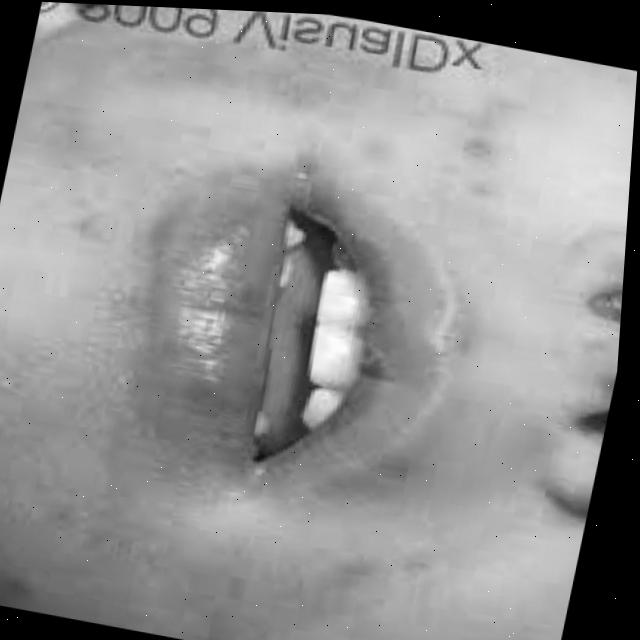Eczema: (12, 451, 366, 637), (98, 9, 453, 138)
